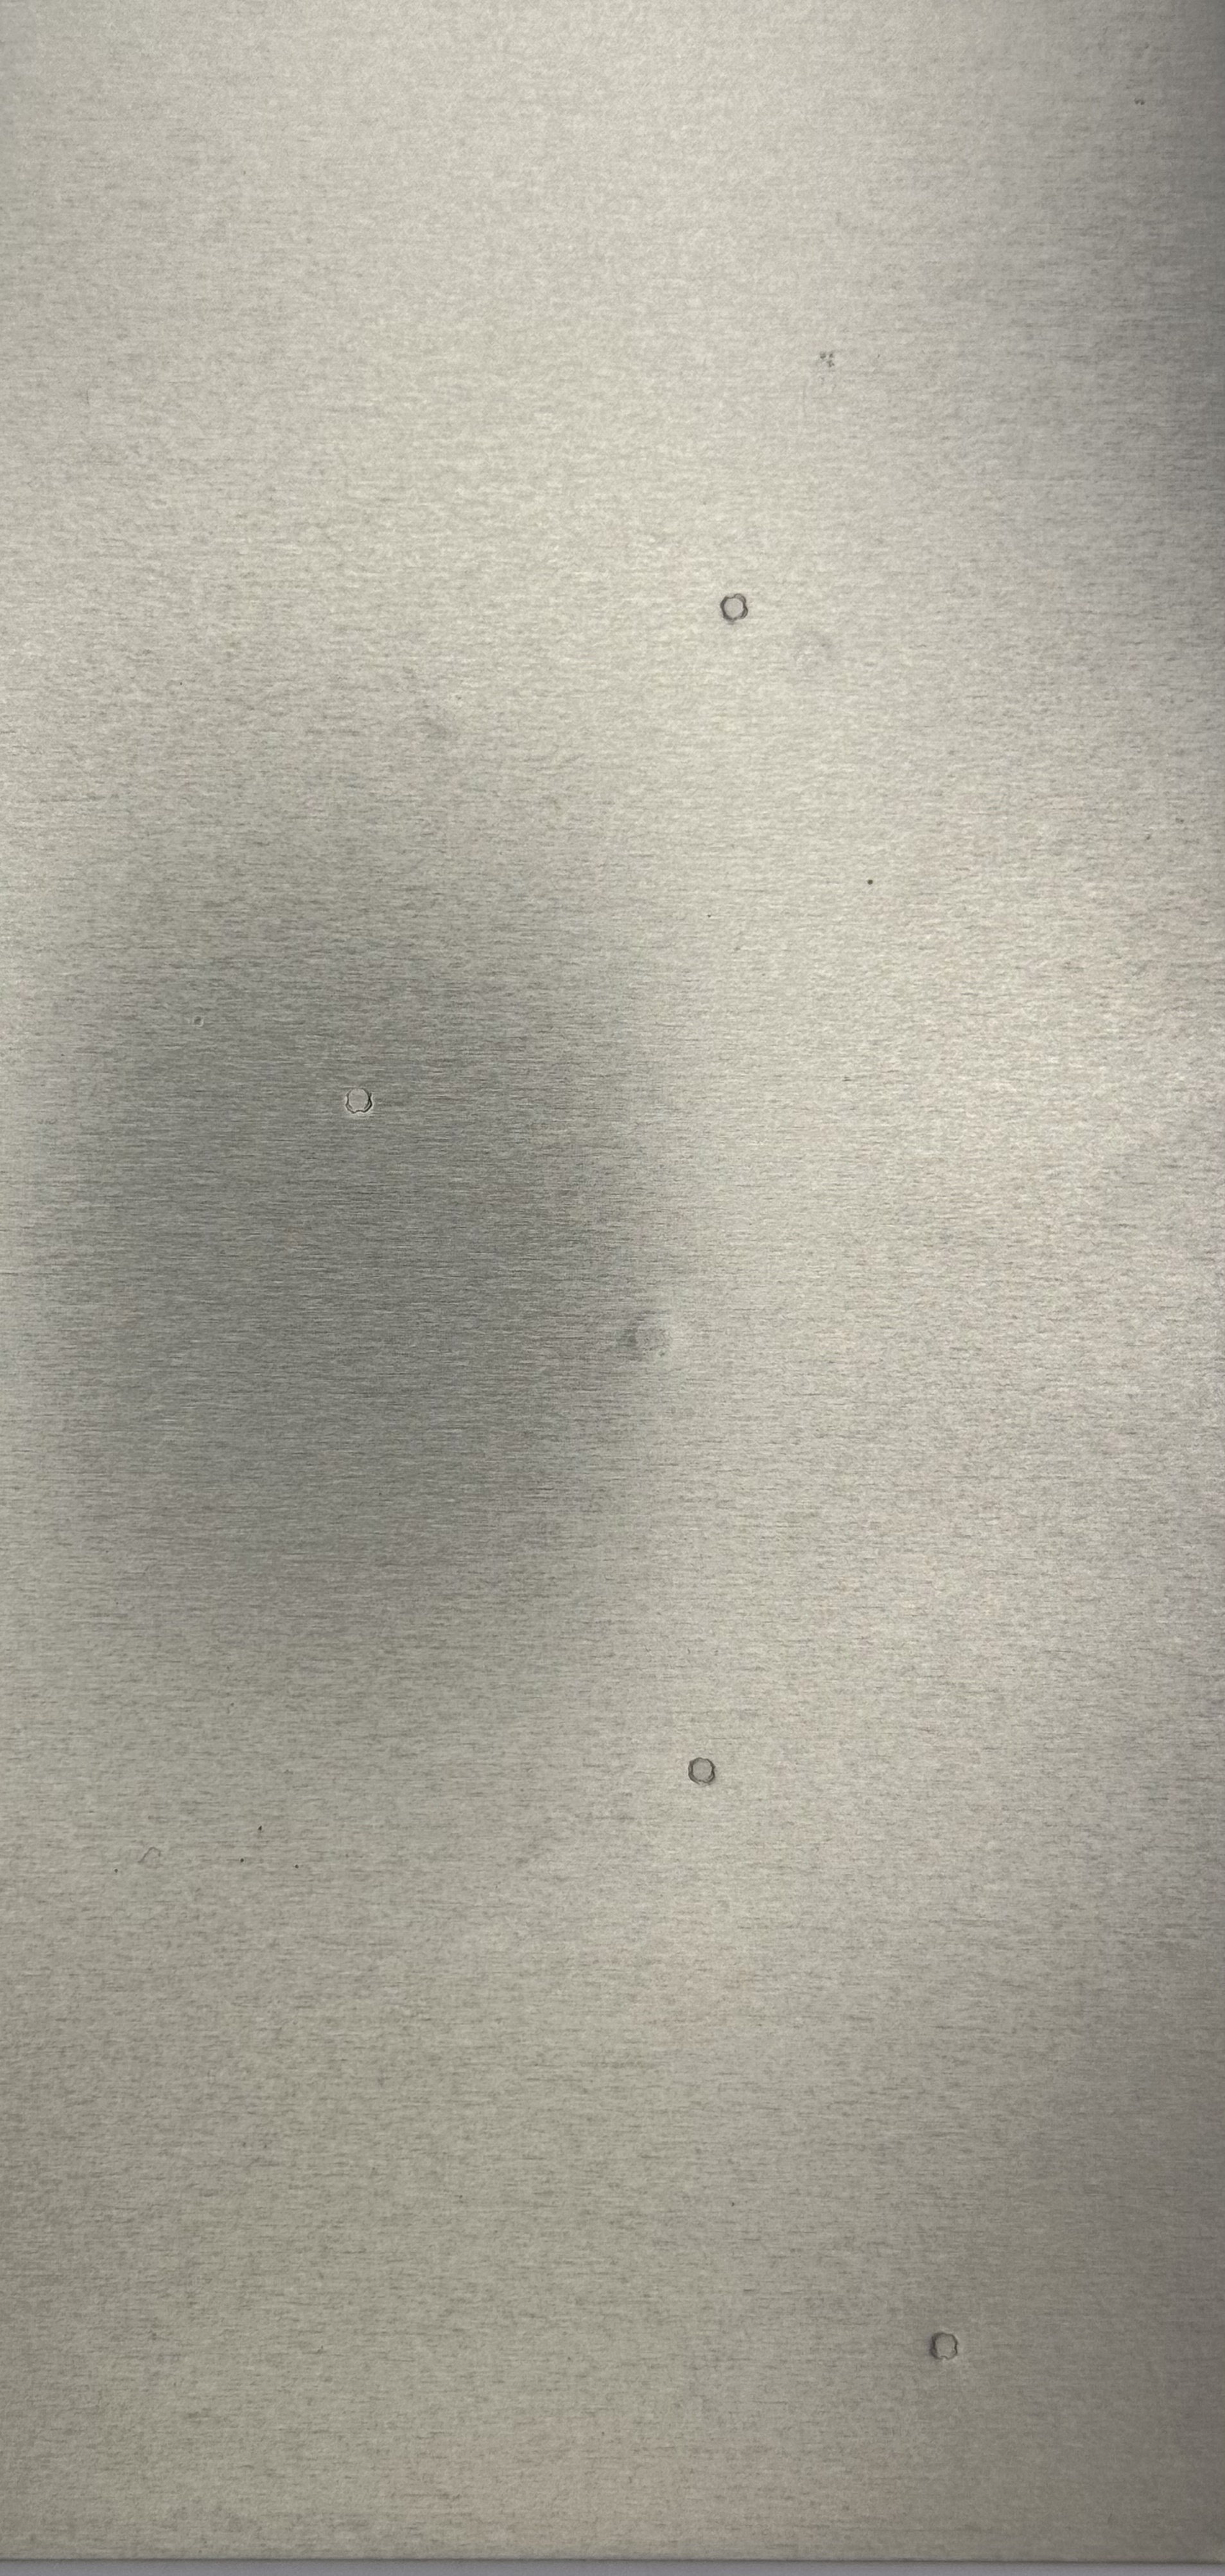Delle: (378, 672, 507, 779), (604, 1283, 714, 1400), (759, 608, 857, 703), (330, 1073, 401, 1138), (701, 577, 767, 637), (915, 2321, 980, 2379), (673, 1743, 737, 1801)
